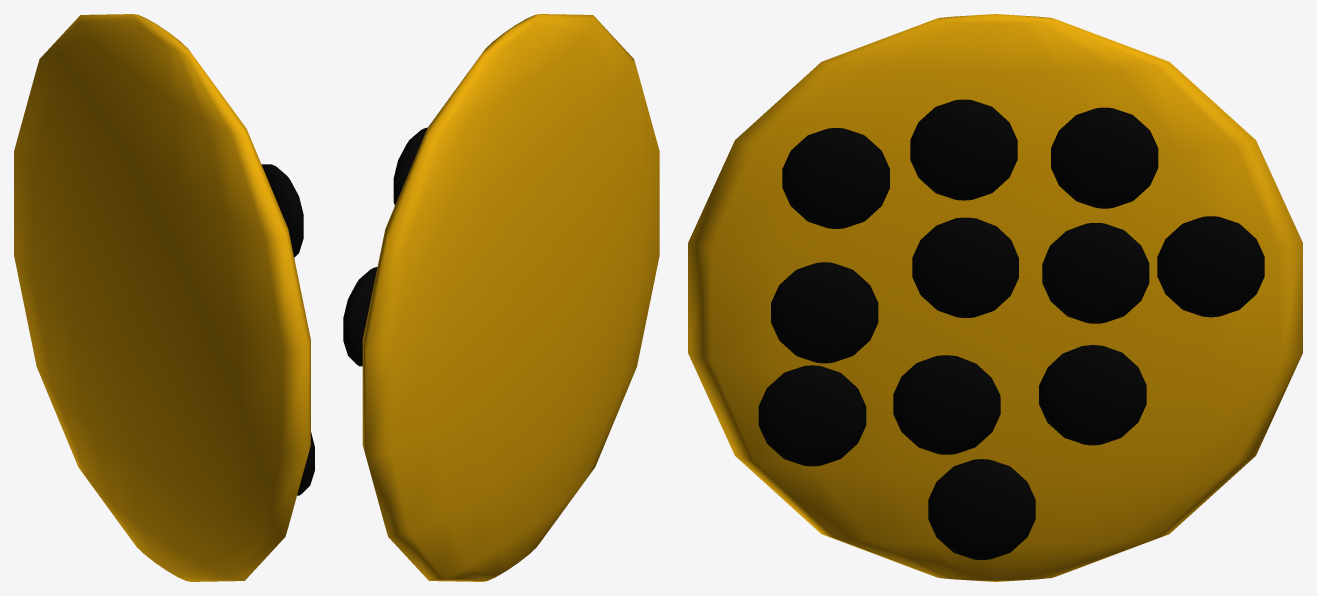
Rendered from cookie_normal.fbx.
The picture shows the model from 3 angles, left to right: view 1: azimuth 30°, elevation 25°; view 2: azimuth 150°, elevation 25°; view 3: azimuth 270°, elevation 25°; orthographic projection. The views are drawn at different scales.
Parts seen in each view (by area): view 1: base; view 2: base; view 3: base.
Boxes of the visible parts, bbox=[...] form: base: bbox=[14, 14, 314, 581]; base: bbox=[343, 14, 659, 581]; base: bbox=[688, 14, 1302, 581].
Bounding box in the file's own units: 35.54 × 200 × 196.
